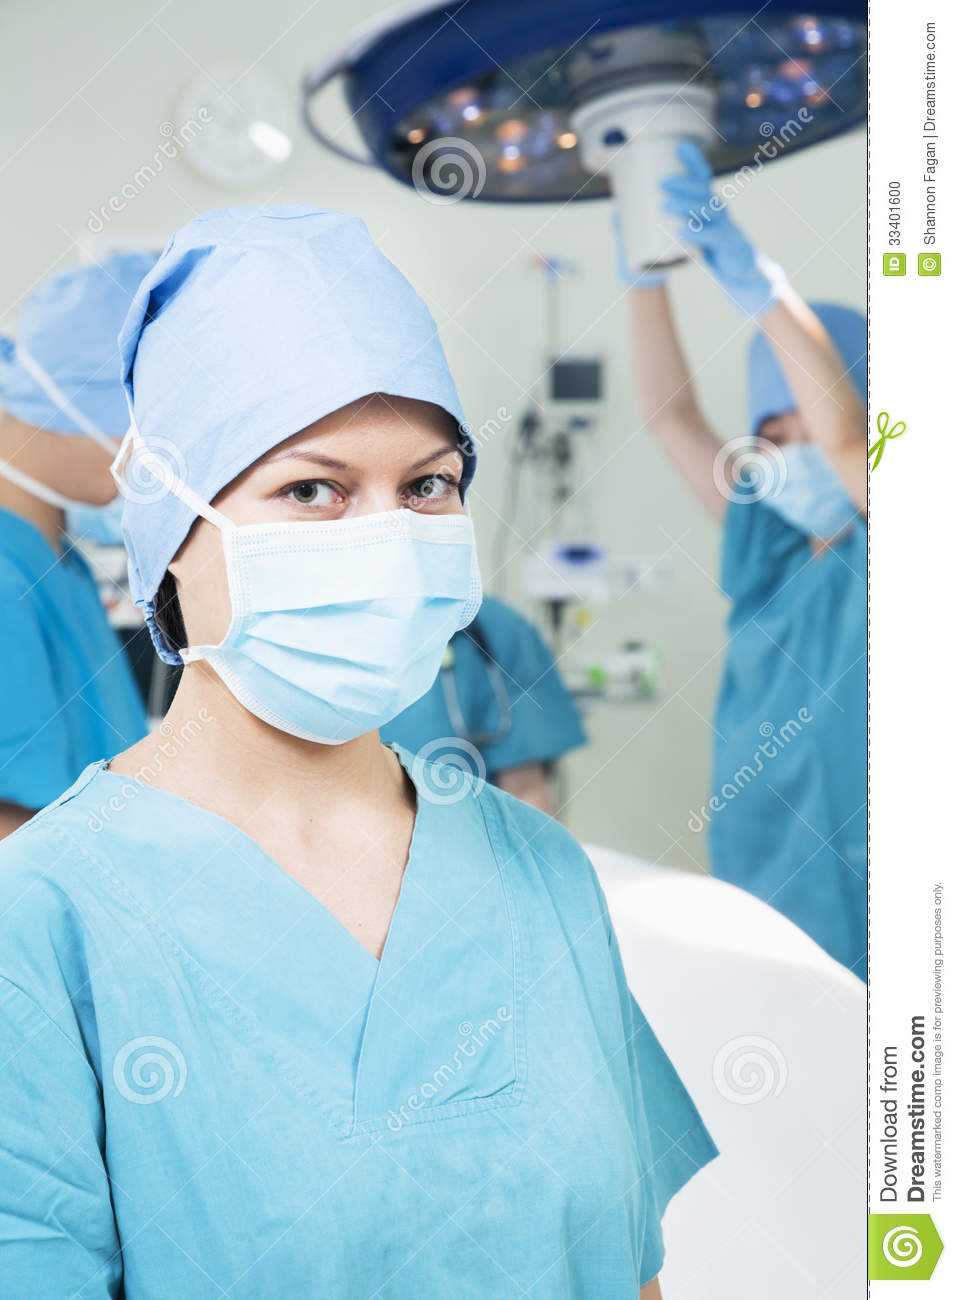mask: (196, 515, 498, 735)
